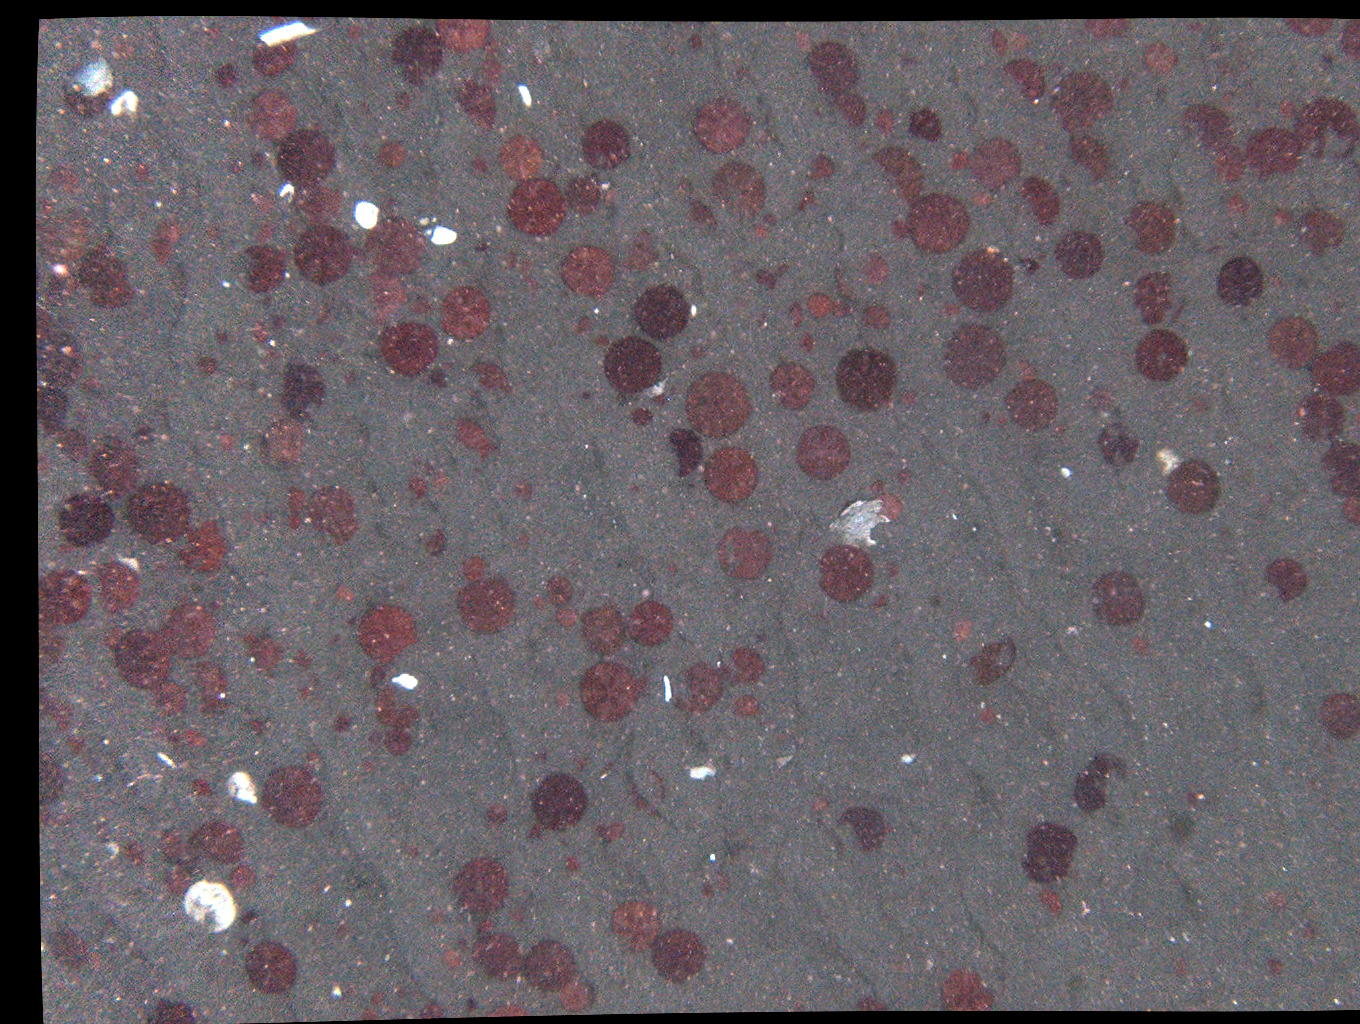Small shell hash: (124, 33, 142, 43)
Substrate A: (59, 38, 73, 47)
sand dollar: (683, 371, 756, 442), (939, 321, 1008, 393), (953, 248, 1020, 316), (905, 191, 973, 258), (264, 766, 330, 835), (128, 482, 191, 545), (1055, 69, 1120, 130), (1300, 94, 1360, 159), (838, 347, 900, 408), (438, 283, 498, 341), (1300, 389, 1360, 447), (1244, 126, 1304, 184), (361, 605, 421, 663), (455, 579, 515, 637), (504, 179, 564, 237), (665, 658, 726, 716), (1086, 567, 1146, 625), (1163, 458, 1223, 516), (1220, 252, 1280, 310), (562, 242, 622, 300), (604, 341, 664, 399), (632, 283, 692, 341), (817, 546, 877, 605), (713, 530, 773, 588), (797, 427, 857, 485), (1126, 332, 1186, 390), (1125, 268, 1185, 326), (1121, 202, 1182, 260), (711, 159, 771, 217), (800, 37, 860, 95), (57, 494, 117, 552), (233, 238, 294, 296), (81, 441, 141, 499), (29, 325, 89, 383), (47, 207, 108, 265), (85, 254, 145, 312), (184, 655, 244, 713), (241, 637, 301, 695), (934, 951, 994, 1009), (833, 805, 893, 863), (655, 928, 715, 986), (468, 927, 528, 985), (527, 766, 587, 824), (442, 857, 502, 915), (246, 939, 306, 997), (113, 630, 173, 688), (94, 559, 154, 617), (1069, 752, 1129, 810), (1016, 828, 1076, 886), (1300, 339, 1360, 397), (1265, 313, 1325, 371), (579, 117, 639, 175), (865, 147, 925, 205), (364, 216, 424, 274), (292, 226, 352, 284), (278, 128, 338, 186), (237, 84, 296, 142), (249, 31, 309, 89), (35, 384, 95, 442), (163, 602, 223, 660), (35, 569, 95, 627), (1005, 376, 1065, 433), (297, 490, 357, 547), (702, 447, 762, 504), (176, 520, 237, 577), (187, 817, 247, 874), (695, 99, 756, 155), (277, 360, 337, 417), (392, 24, 452, 81), (377, 321, 436, 378), (967, 631, 1021, 687), (528, 936, 582, 993), (613, 898, 667, 954), (358, 272, 410, 327), (35, 753, 86, 807), (48, 924, 96, 981), (582, 605, 635, 653), (1298, 209, 1351, 257), (969, 141, 1022, 189), (770, 362, 824, 411), (628, 600, 679, 650), (263, 421, 316, 469), (1001, 56, 1054, 104), (616, 228, 669, 276), (286, 179, 339, 227), (450, 82, 503, 130), (566, 174, 619, 222), (1184, 105, 1237, 153), (1013, 177, 1066, 225), (655, 431, 708, 479), (1317, 689, 1360, 749), (1314, 433, 1357, 493), (493, 136, 546, 183), (1061, 133, 1114, 181), (1058, 232, 1111, 280), (141, 681, 189, 727), (57, 413, 109, 456), (1266, 558, 1313, 606), (1098, 423, 1141, 470), (149, 990, 207, 1024), (836, 88, 879, 134), (35, 631, 73, 683), (731, 648, 773, 692), (440, 17, 492, 49), (455, 411, 495, 453), (376, 687, 418, 726), (469, 358, 509, 398), (280, 485, 314, 530), (151, 221, 183, 266), (1277, 16, 1335, 41), (1211, 150, 1248, 184), (486, 994, 534, 1020), (907, 116, 944, 148), (1080, 16, 1125, 42), (1147, 42, 1179, 75), (563, 978, 595, 1012), (51, 165, 78, 202), (875, 490, 907, 523), (214, 56, 240, 93), (378, 139, 409, 170), (1338, 19, 1360, 62), (511, 478, 541, 508), (517, 258, 547, 288), (571, 309, 601, 339), (415, 367, 445, 397), (553, 600, 583, 630), (461, 549, 491, 579), (339, 580, 369, 610), (424, 529, 454, 559), (405, 291, 435, 321), (627, 406, 657, 435), (548, 575, 578, 605), (407, 471, 436, 501), (432, 463, 462, 492), (249, 186, 274, 219), (1037, 888, 1066, 916), (756, 264, 784, 291), (487, 803, 515, 831), (298, 746, 326, 774), (950, 620, 978, 648), (1266, 961, 1294, 989), (1277, 93, 1305, 120), (894, 386, 924, 413), (863, 255, 892, 282), (439, 940, 468, 967), (178, 728, 207, 755), (980, 409, 1010, 436), (1295, 913, 1325, 940), (250, 314, 273, 349), (1021, 353, 1049, 380), (756, 224, 784, 251), (781, 301, 808, 328), (801, 326, 829, 353), (808, 294, 836, 321), (836, 297, 864, 324), (864, 304, 892, 331), (991, 31, 1019, 58), (969, 186, 997, 213), (951, 152, 979, 179), (887, 222, 915, 248), (688, 203, 716, 230), (668, 173, 696, 200), (684, 29, 712, 56), (791, 27, 819, 54), (873, 110, 901, 137), (794, 184, 822, 211), (812, 153, 840, 180), (479, 60, 507, 87), (389, 87, 417, 114), (936, 294, 964, 321), (543, 687, 571, 714), (89, 626, 117, 653), (239, 711, 267, 738), (226, 866, 254, 893), (162, 866, 190, 893), (163, 831, 191, 858), (384, 731, 412, 758), (114, 838, 142, 865), (184, 774, 212, 801), (287, 646, 315, 673), (330, 713, 358, 740), (366, 664, 393, 691), (853, 992, 881, 1019), (810, 791, 838, 817), (420, 996, 448, 1023), (419, 909, 447, 936), (519, 820, 547, 847), (557, 847, 585, 873), (591, 815, 619, 842), (736, 695, 764, 722), (1182, 784, 1209, 811), (1133, 632, 1161, 659), (973, 708, 1001, 735), (873, 589, 901, 616), (870, 560, 898, 587), (894, 465, 922, 492), (1184, 392, 1212, 418), (1082, 386, 1110, 413), (1262, 881, 1290, 908), (1168, 951, 1196, 978), (1332, 496, 1360, 523), (1226, 189, 1254, 216), (1266, 205, 1294, 232), (468, 155, 493, 184), (695, 878, 724, 904), (216, 435, 241, 464), (197, 353, 220, 381), (130, 156, 149, 187), (348, 23, 369, 44)
